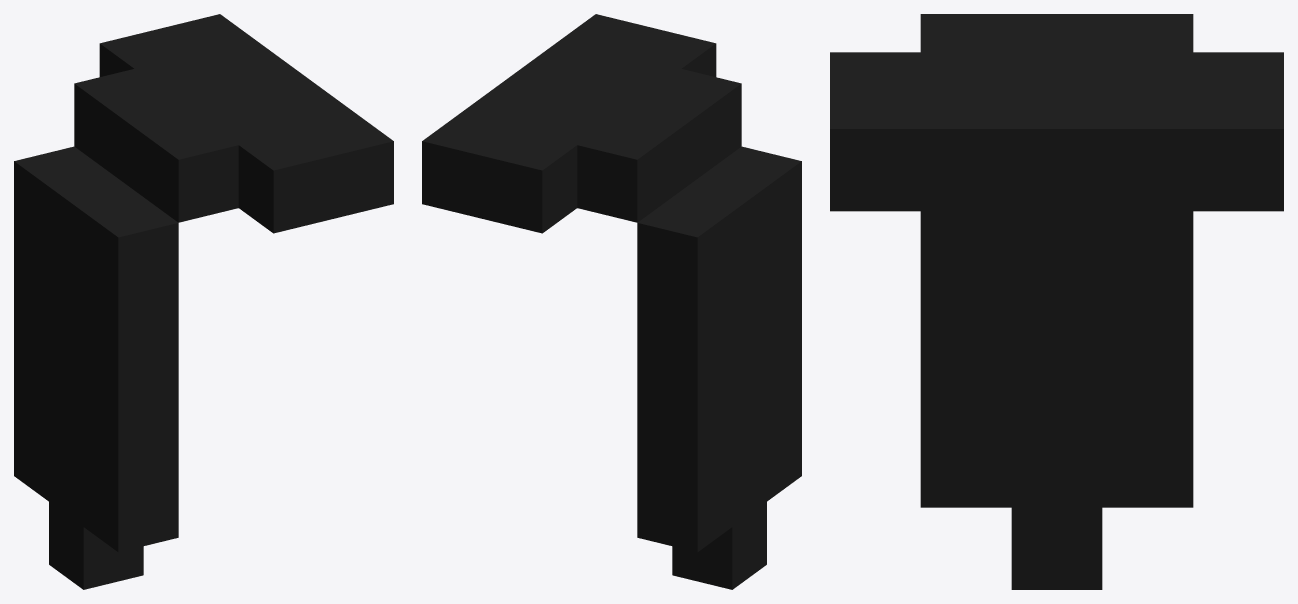
The model's file is Animals-21.obj.
The picture shows the model from 3 angles, left to right: view 1: azimuth 30°, elevation 25°; view 2: azimuth 150°, elevation 25°; view 3: azimuth 270°, elevation 25°; orthographic projection. The views are drawn at different scales.
Bounding box in the file's own units: 0.4 × 0.7 × 0.5.
Materials: 1 (1 with a texture image).
